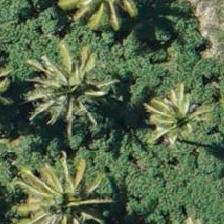coconut_tree: (22, 46, 112, 136), (131, 67, 221, 157), (18, 161, 108, 223)
